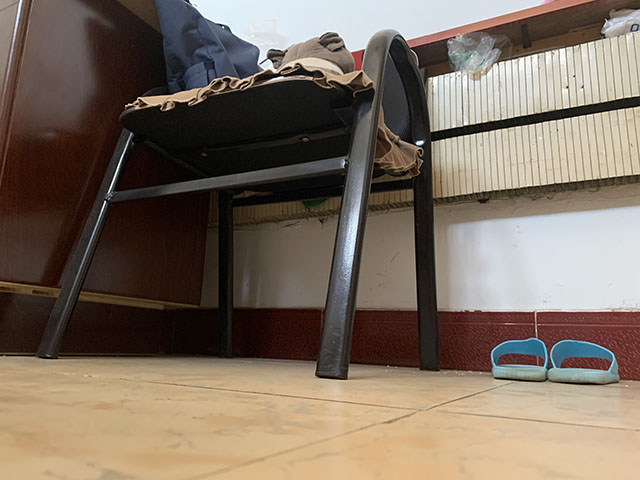cabinet: (1, 1, 213, 357)
slippers: (546, 336, 621, 386), (490, 335, 547, 383)
stool: (35, 27, 441, 381)
